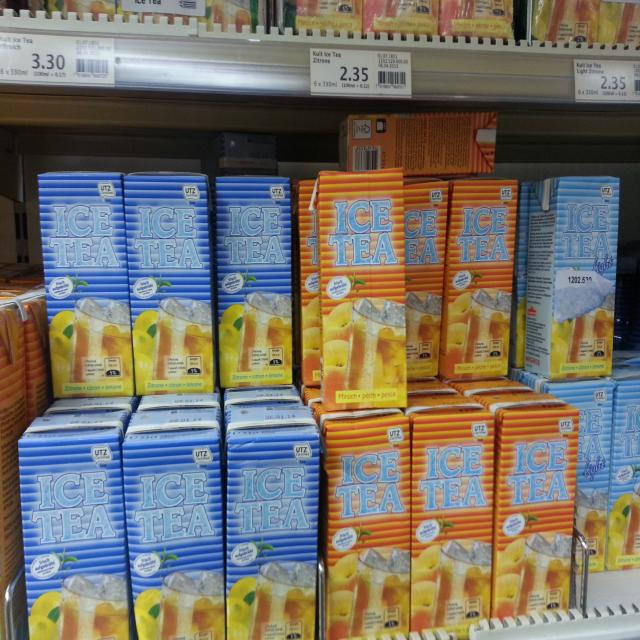IceTea: (18, 416, 136, 640), (472, 393, 580, 618), (121, 404, 223, 637), (316, 167, 406, 409), (319, 409, 413, 640), (119, 172, 215, 394), (36, 175, 132, 396), (225, 411, 317, 640), (409, 397, 494, 636), (524, 174, 621, 383), (212, 172, 295, 390), (454, 180, 514, 383), (544, 380, 606, 572), (344, 110, 496, 176), (398, 184, 441, 384), (609, 368, 640, 569)
